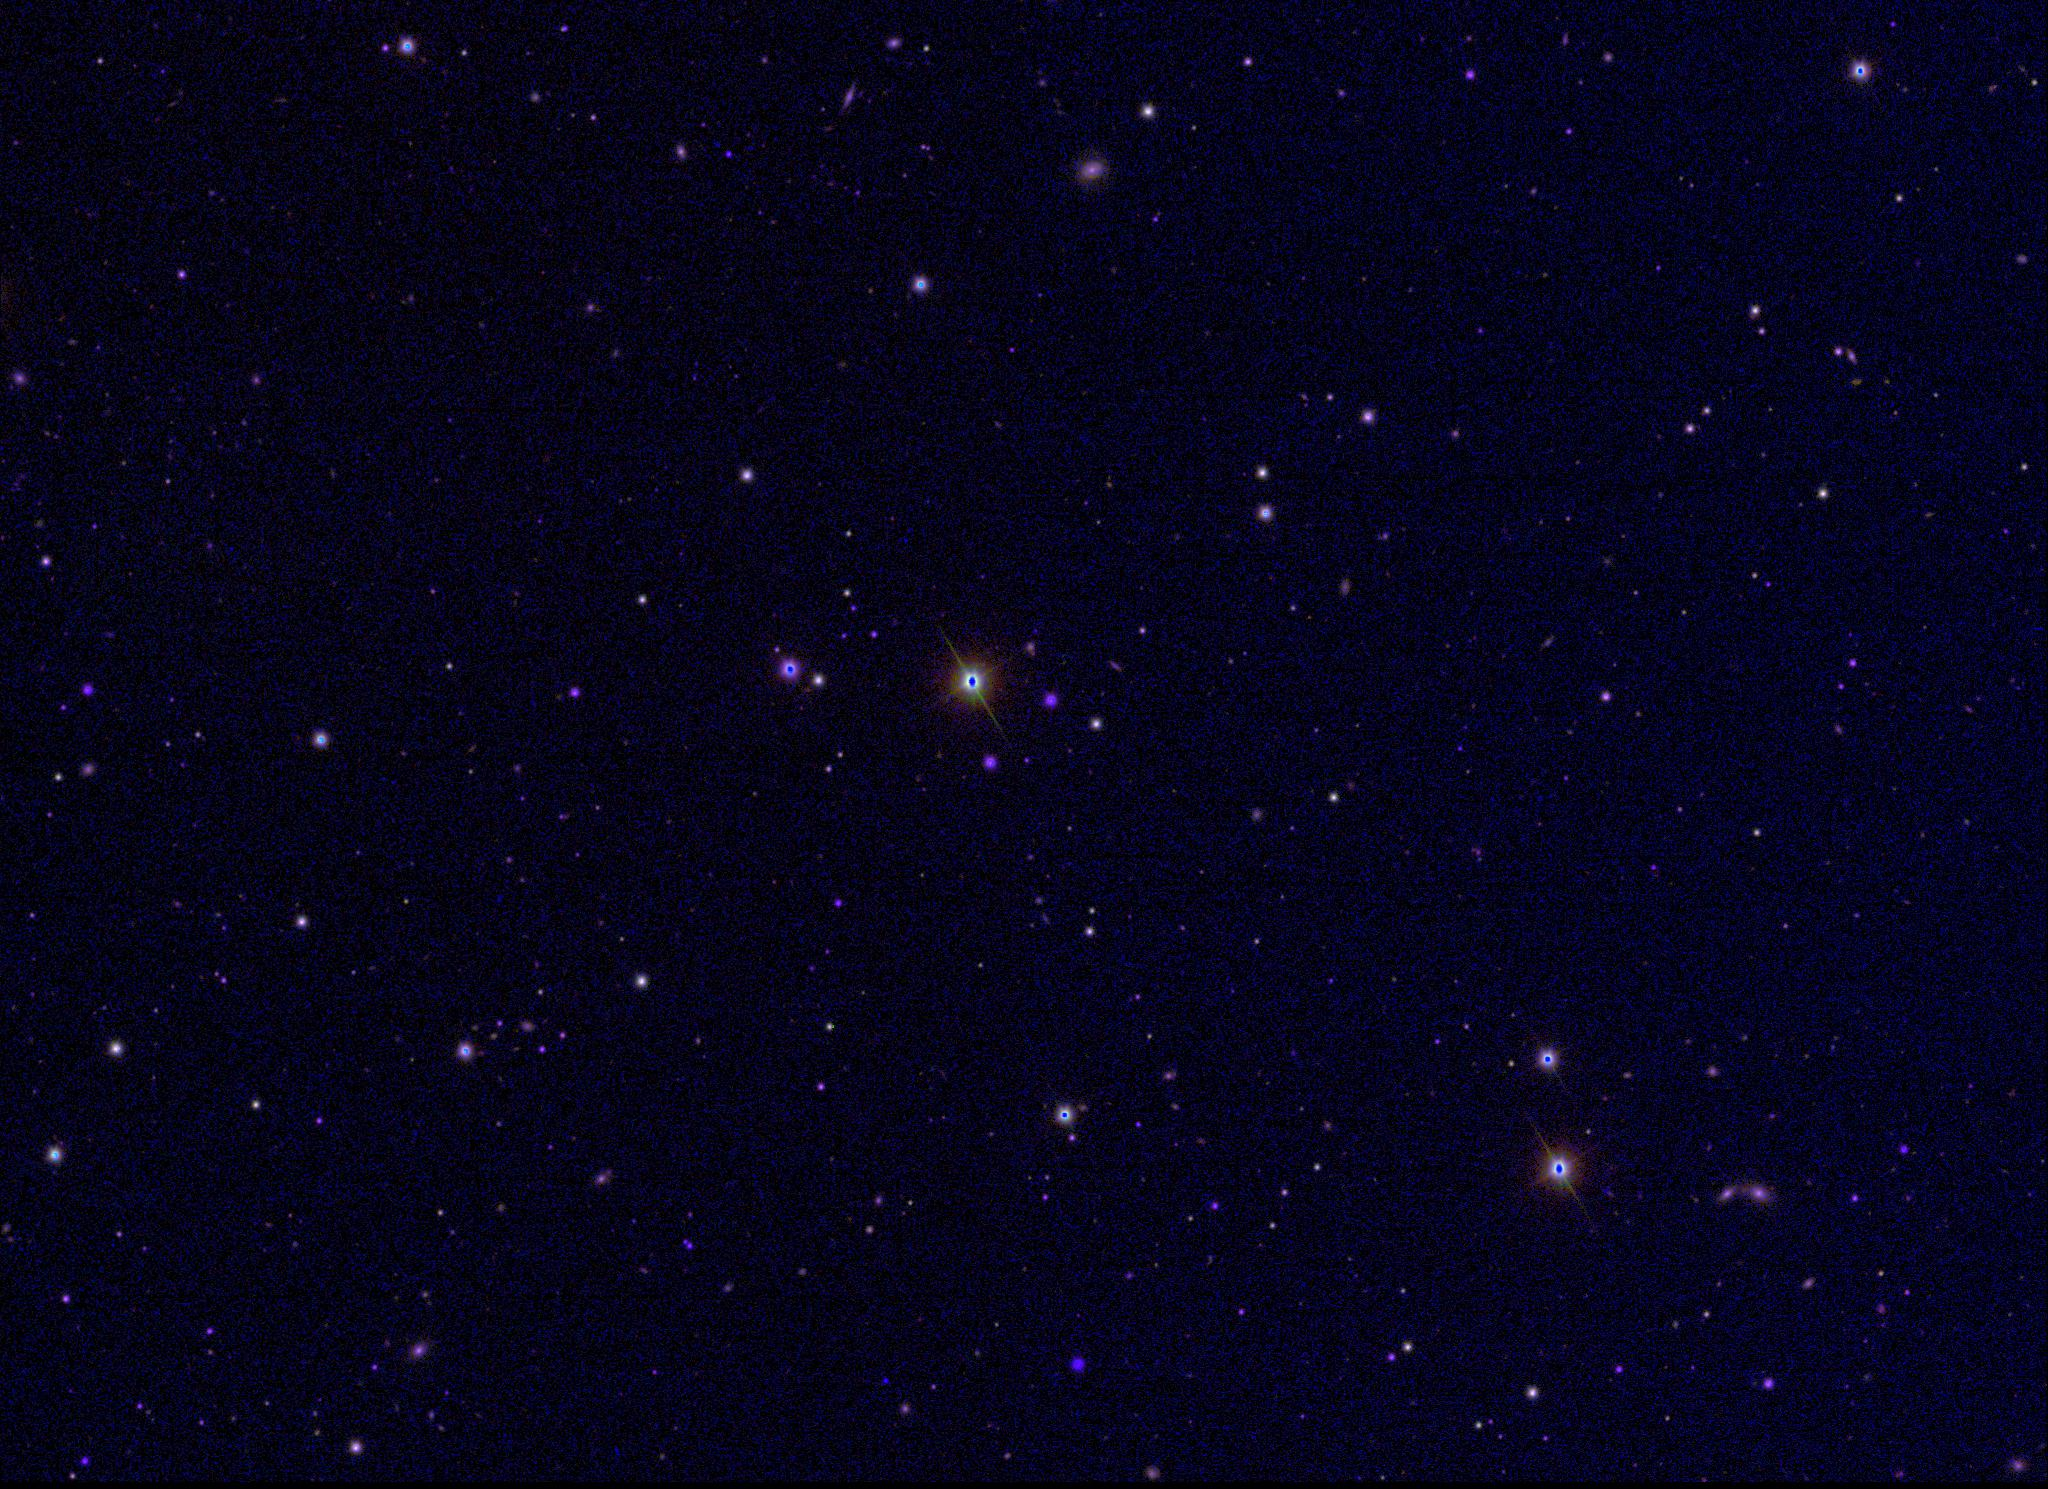L: (879, 1374, 894, 1389)
